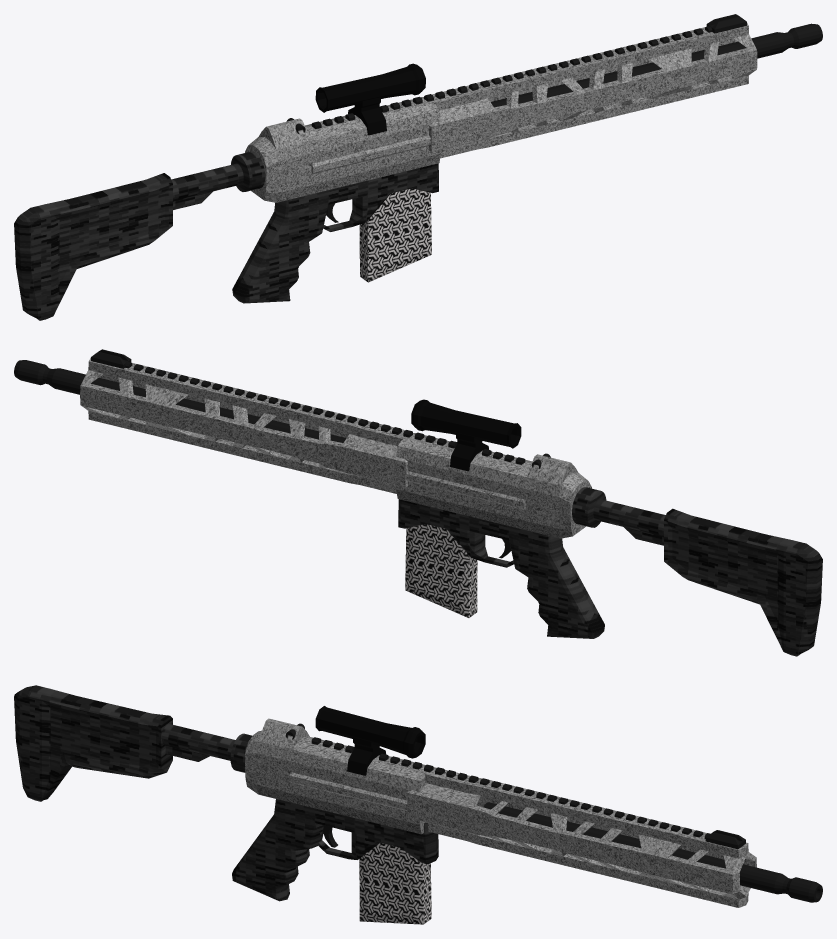
File: DMR Model V3.fbx
3 renders of one model, top to bottom at view 1: azimuth 30°, elevation 25°; view 2: azimuth 150°, elevation 25°; view 3: azimuth 330°, elevation 25°, orthographic.
Parts seen in each view (by area): view 1: DMR; view 2: DMR; view 3: DMR.
Boxes of the visible parts, bbox=[...] form: DMR: bbox=[14, 14, 822, 320]; DMR: bbox=[14, 349, 822, 656]; DMR: bbox=[14, 685, 822, 924].
Size of the model in its own units: 8741 by 2094 by 451.
Materials: 2 (1 with a texture image).
